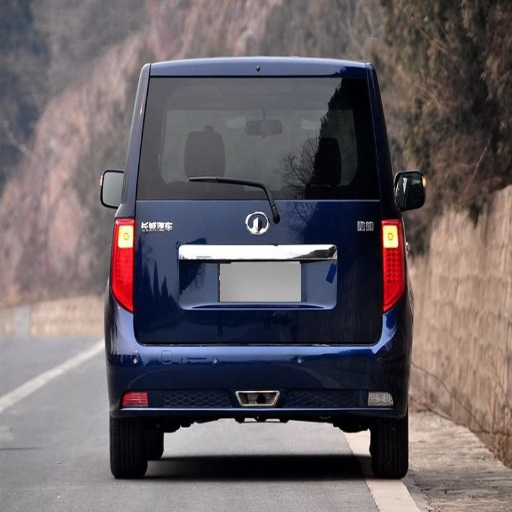back_bumper: (105, 305, 257, 415), (321, 307, 409, 405)
tailgate: (235, 278, 374, 343)
trunk: (140, 195, 378, 369), (146, 78, 259, 130)
